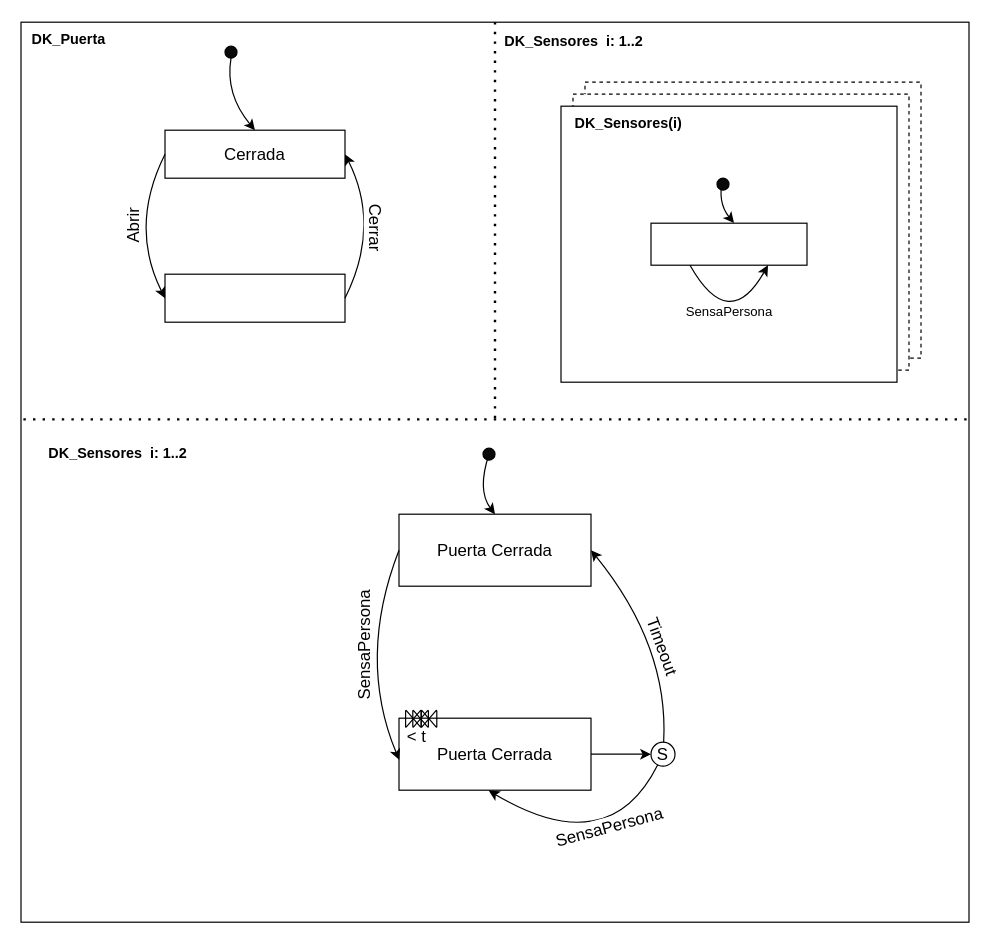
The diagram is 992 pixels wide and 943 high, and some of its shapes have lost their labels. The shapes that lost their labels are listed below. From the top down, each one's centre as x and y in pixels, then its label:
At (728,243): "Sensor".
At (254,297): "Abierta".
